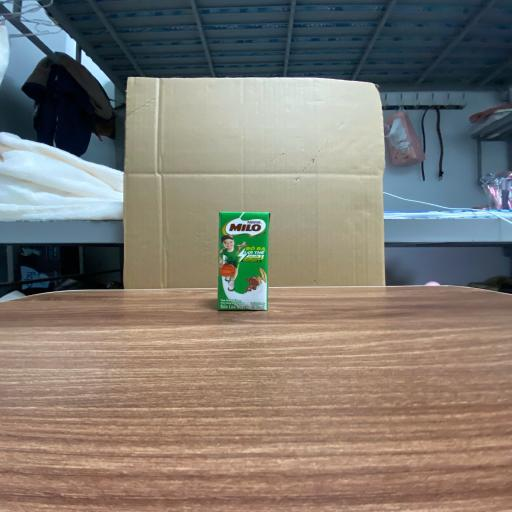milo: (219, 212, 269, 312)
